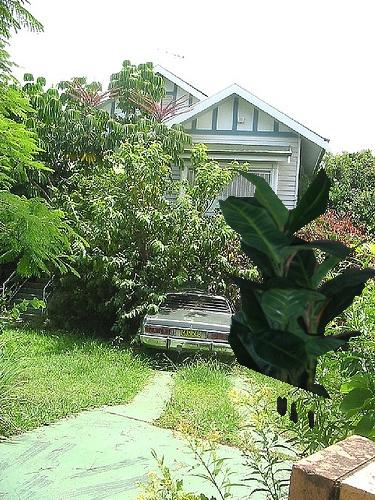tampered: (219, 168, 375, 428)
